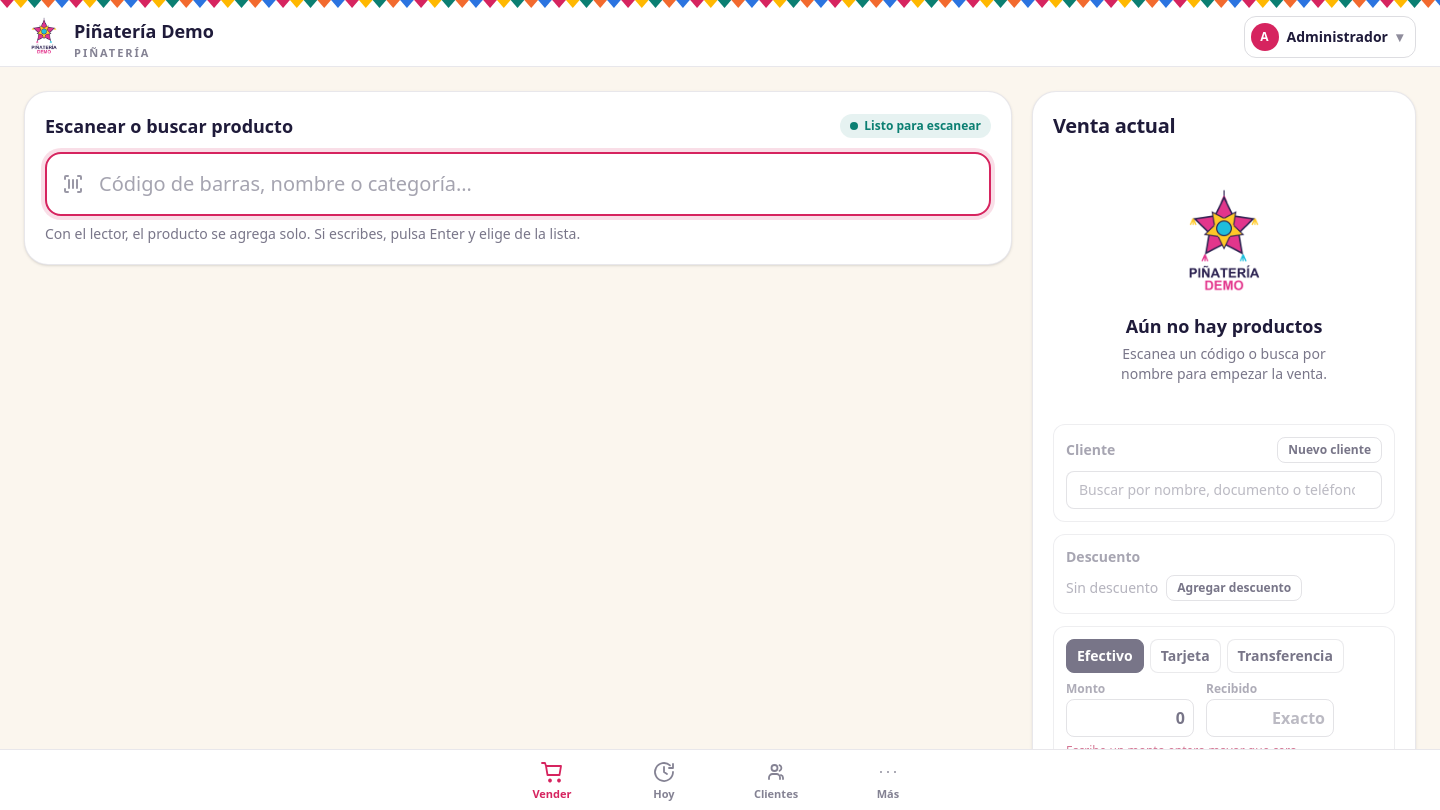
Test: PosPage — celular (barra inferior) › el administrador ve tres secciones y Más, con el resto de las secciones agrupadas
Check: the tabs read "Vender", "Hoy", "Clientes", in this order, box [496,750,608,809]; [608,750,720,809]; [720,750,832,809]
Click the button "Más" at (888, 780), box [832,750,944,809]
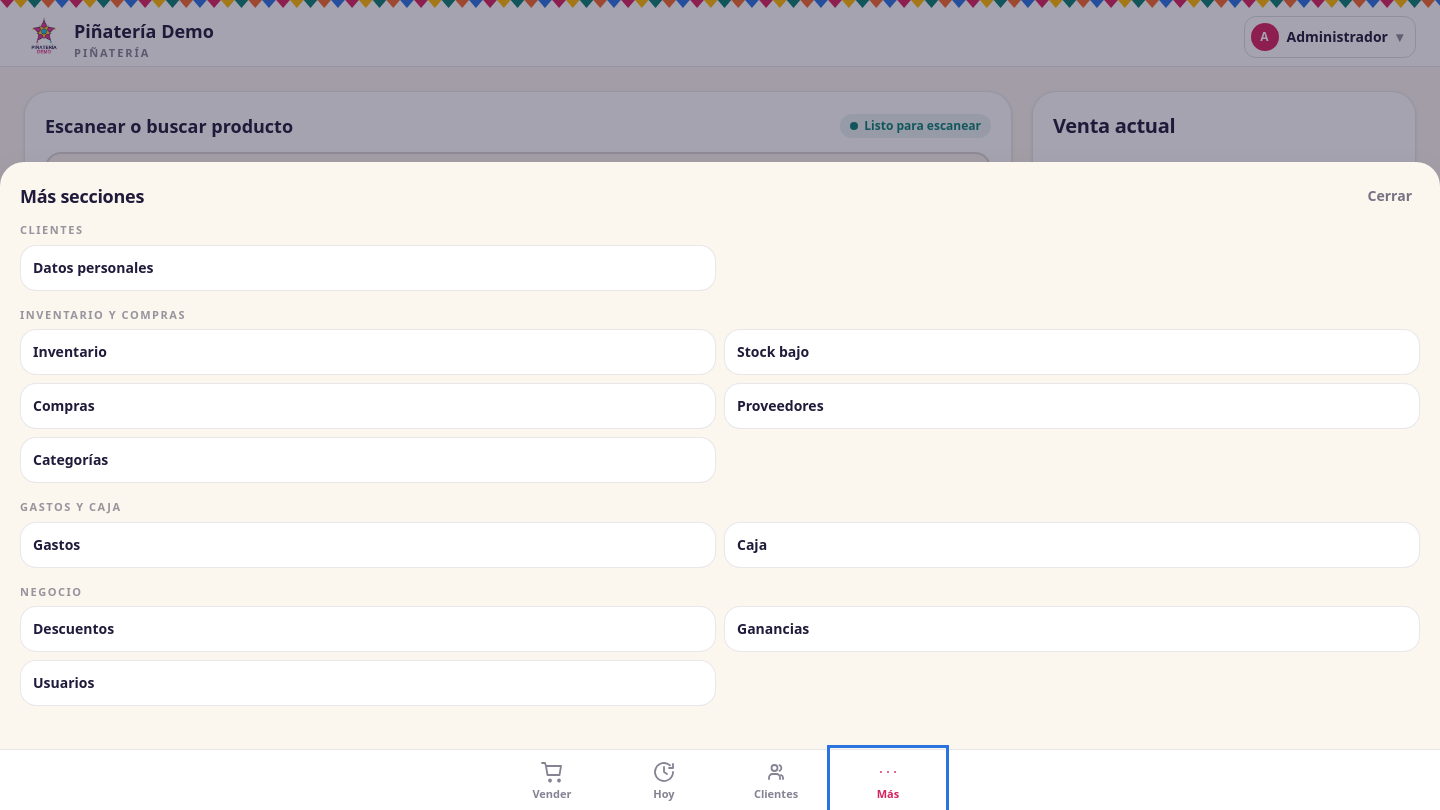
Check: the button "Datos personales" is shown, box [20,244,716,290]
Check: the button "Inventario" is shown, box [20,329,716,375]
Check: the button "Stock bajo" is shown, box [724,329,1420,375]
